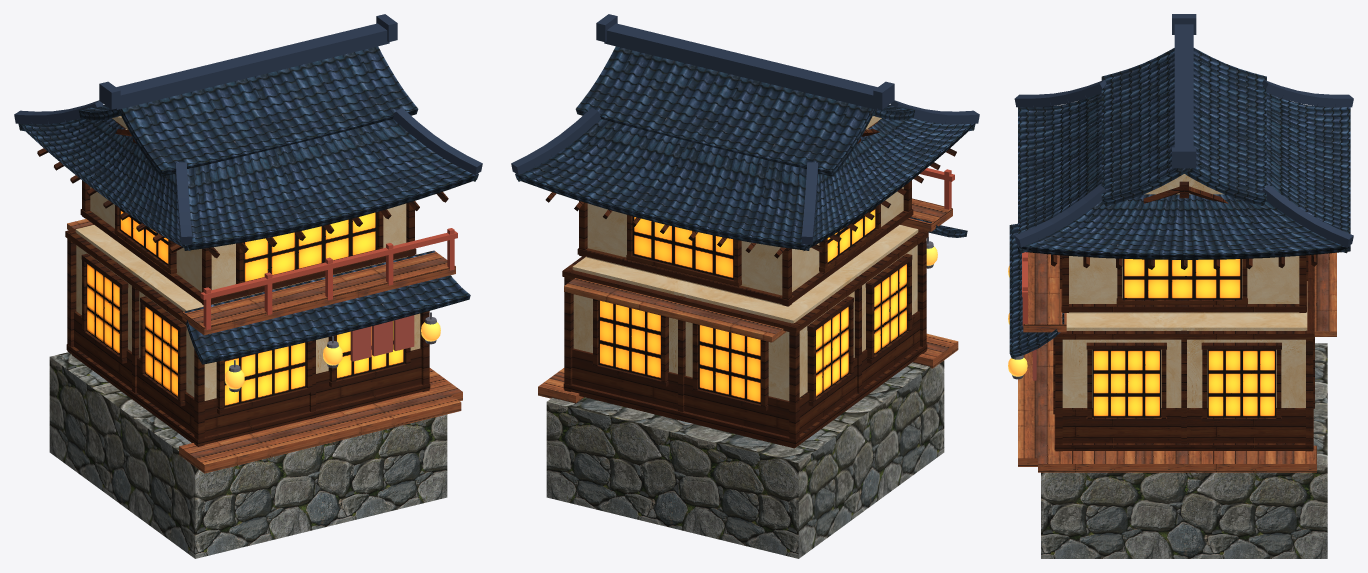
File: teahouse_hero.glb
3 renders of one model, left to right at view 1: azimuth 30°, elevation 25°; view 2: azimuth 150°, elevation 25°; view 3: azimuth 270°, elevation 25°, orthographic.
Parts seen in each view (by area): view 1: teahouse_kawara, teahouse_castle_stone, teahouse_charred, teahouse_shoji_glow, teahouse_cedar, teahouse_plaster, teahouse_vermilion, teahouse_noren_crimson, teahouse_chochin_glow; view 2: teahouse_kawara, teahouse_castle_stone, teahouse_charred, teahouse_shoji_glow, teahouse_plaster, teahouse_cedar; view 3: teahouse_kawara, teahouse_castle_stone, teahouse_charred, teahouse_plaster, teahouse_cedar, teahouse_shoji_glow, teahouse_vermilion.
Boxes of the visible parts, bbox=[...] form: teahouse_kawara: bbox=[14, 14, 482, 364]; teahouse_castle_stone: bbox=[49, 352, 447, 558]; teahouse_charred: bbox=[37, 121, 448, 446]; teahouse_shoji_glow: bbox=[86, 208, 404, 407]; teahouse_cedar: bbox=[67, 219, 462, 473]; teahouse_plaster: bbox=[75, 116, 420, 400]; teahouse_vermilion: bbox=[200, 228, 457, 330]; teahouse_noren_crimson: bbox=[350, 315, 414, 361]; teahouse_chochin_glow: bbox=[225, 322, 440, 389]; teahouse_kawara: bbox=[511, 14, 979, 250]; teahouse_castle_stone: bbox=[546, 360, 944, 558]; teahouse_charred: bbox=[545, 121, 956, 448]; teahouse_shoji_glow: bbox=[598, 207, 907, 404]; teahouse_plaster: bbox=[572, 116, 918, 400]; teahouse_cedar: bbox=[538, 198, 958, 403]; teahouse_kawara: bbox=[1009, 14, 1353, 358]; teahouse_castle_stone: bbox=[1041, 343, 1327, 558]; teahouse_charred: bbox=[1021, 181, 1347, 451]; teahouse_plaster: bbox=[1062, 174, 1307, 407]; teahouse_cedar: bbox=[1018, 252, 1336, 472]; teahouse_shoji_glow: bbox=[1092, 258, 1275, 417]; teahouse_vermilion: bbox=[1022, 252, 1027, 325].
Bounding box in the file's own units: 5.08 × 6.78 × 5.11.
Materials: 10 (6 with a texture image).
